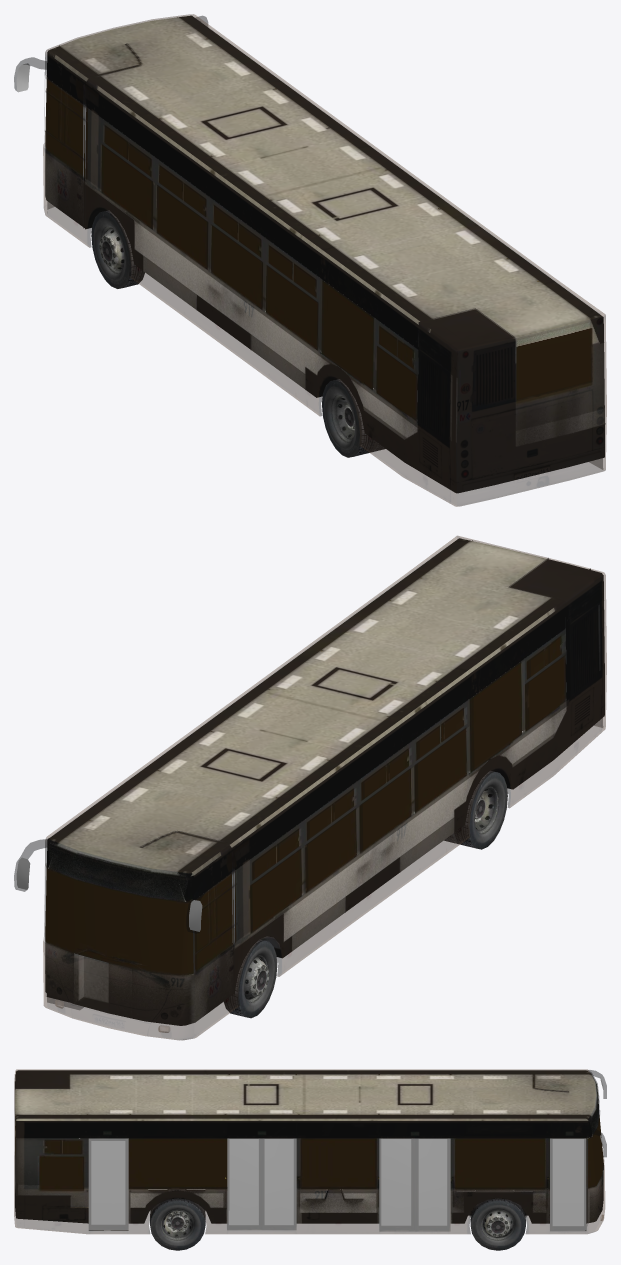
Rendered from bus.glb.
3 renders of one model, top to bottom at view 1: azimuth 30°, elevation 25°; view 2: azimuth 150°, elevation 25°; view 3: azimuth 270°, elevation 25°, orthographic. The views are drawn at different scales.
Parts seen in each view (by area): view 1: Roaz5236_Interior, RoAZ_5236, BusWheel; view 2: Roaz5236_Interior, RoAZ_5236, BusWheel, Mirrors; view 3: Roaz5236_Interior, RoAZ_5236, Roaz5236_IntDoors, BusWheel.
Part boxes in pixels (x1,y1,x2,y2): Roaz5236_Interior: (45, 15, 605, 493); RoAZ_5236: (14, 14, 606, 506); BusWheel: (91, 210, 385, 457); Roaz5236_Interior: (45, 538, 604, 1025); RoAZ_5236: (14, 536, 606, 1040); BusWheel: (224, 770, 507, 1018); Mirrors: (16, 857, 202, 931); Roaz5236_Interior: (15, 1070, 603, 1230); RoAZ_5236: (14, 1069, 606, 1233); Roaz5236_IntDoors: (88, 1138, 586, 1230); BusWheel: (150, 1198, 525, 1250).
Bounding box in the file's own units: 2.75 × 2.71 × 11.
5 materials, 3 textured.
